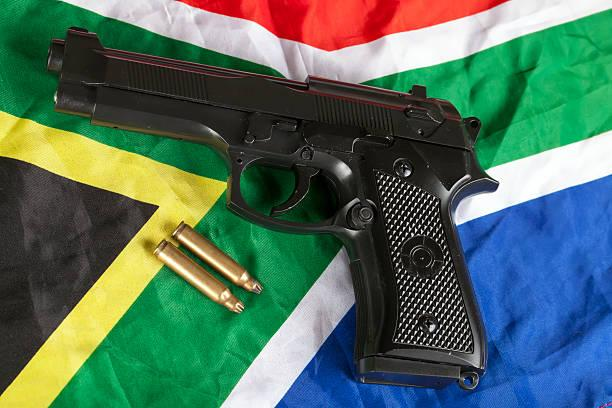weapon: (44, 22, 502, 389)
